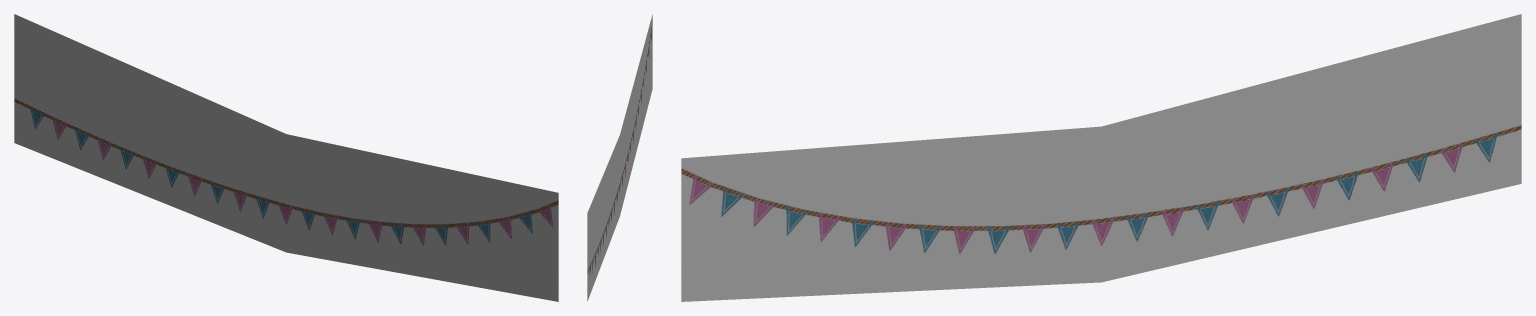
The picture shows the model from 3 angles, left to right: view 1: azimuth 30°, elevation 25°; view 2: azimuth 150°, elevation 25°; view 3: azimuth 270°, elevation 25°; orthographic projection. The views are drawn at different scales.
Visible parts, largest first — view 1: SM_garland002; view 2: SM_garland002; view 3: SM_garland002.
Part boxes in pixels (<box>): SM_garland002: <box>14,14,558,301</box>; SM_garland002: <box>587,14,652,301</box>; SM_garland002: <box>681,14,1521,301</box>.
Bounding box in the file's own units: 299 × 190 × 735.
